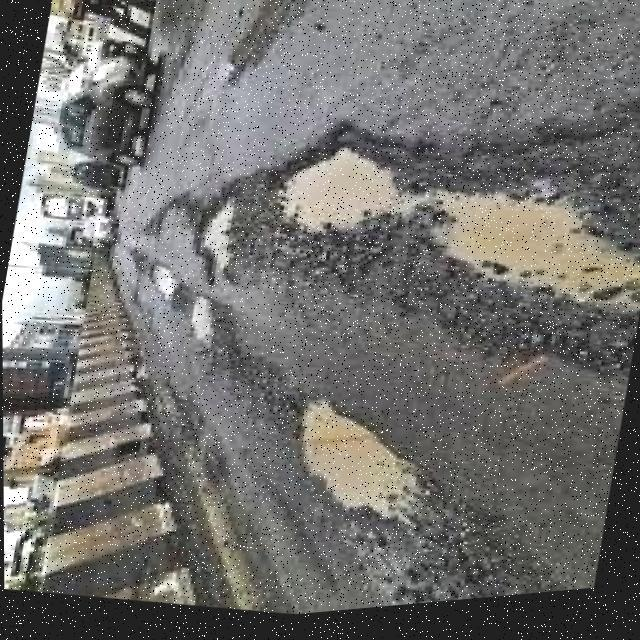pothole: (183, 11, 640, 343), (229, 43, 640, 364), (240, 94, 640, 384), (245, 41, 622, 260), (254, 0, 514, 184)
